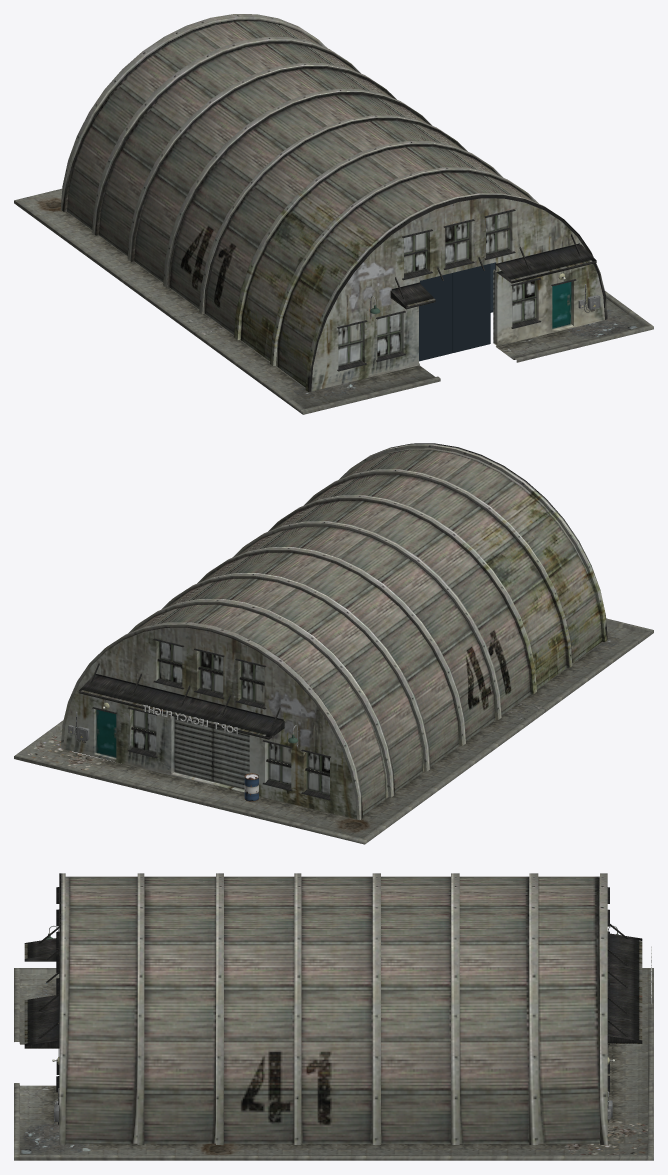
The model's file is roboptimus-hangar.glb.
3 renders of one model, top to bottom at view 1: azimuth 30°, elevation 25°; view 2: azimuth 150°, elevation 25°; view 3: azimuth 270°, elevation 25°, orthographic. The views are drawn at different scales.
Parts seen in each view (by area): view 1: TESLA_HANGAR_SOURCE_SHELL, TESLA_HANGAR_DOOR_RIGHT, TESLA_HANGAR_DOOR_LEFT; view 2: TESLA_HANGAR_SOURCE_SHELL; view 3: TESLA_HANGAR_SOURCE_SHELL.
Part boxes in pixels (x1=…): TESLA_HANGAR_SOURCE_SHELL: x1=14, y1=14, x2=653, y2=414; TESLA_HANGAR_DOOR_RIGHT: x1=452, y1=263, x2=490, y2=352; TESLA_HANGAR_DOOR_LEFT: x1=419, y1=273, x2=452, y2=361; TESLA_HANGAR_SOURCE_SHELL: x1=14, y1=443, x2=653, y2=844; TESLA_HANGAR_SOURCE_SHELL: x1=14, y1=873, x2=653, y2=1160.
Bounding box in the file's own units: 24 × 10.49 × 34.26.
3 materials, 1 textured.
